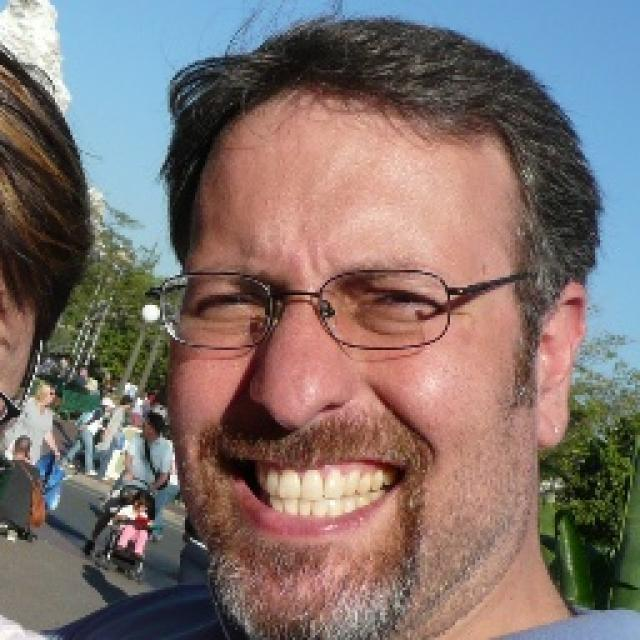earlobe: (535, 282, 588, 451)
